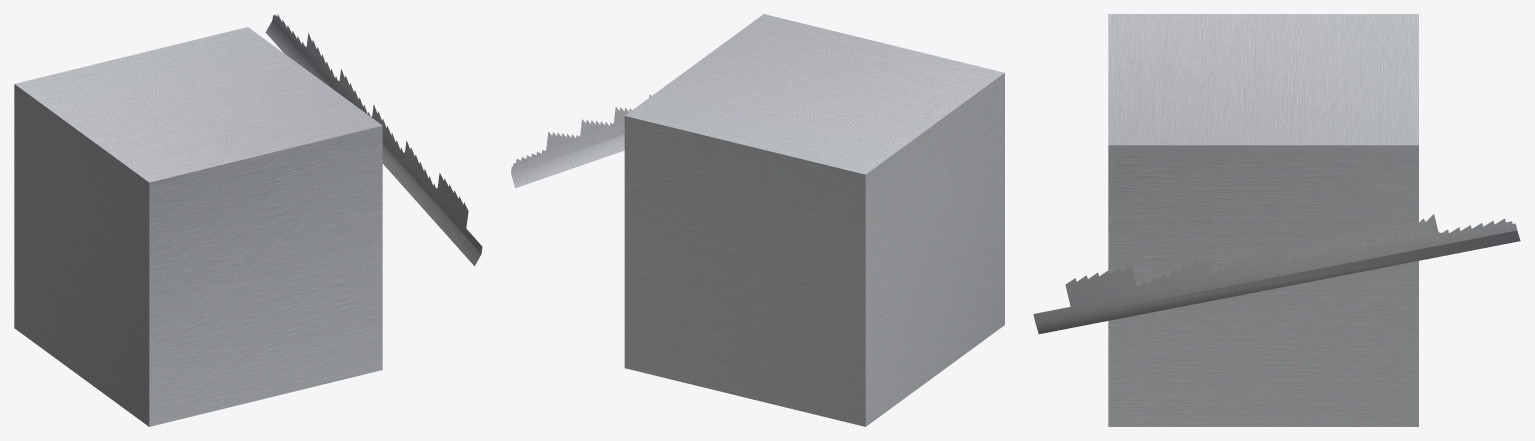
File: asset.gltf
3 renders of one model, left to right at view 1: azimuth 30°, elevation 25°; view 2: azimuth 150°, elevation 25°; view 3: azimuth 270°, elevation 25°, orthographic. The views are drawn at different scales.
Visible parts, largest first — view 1: Cube, Extrude; view 2: Cube, Extrude; view 3: Cube, Extrude.
Part boxes in pixels (x1=…): Cube: x1=14, y1=27, x2=382, y2=426; Extrude: x1=265, y1=14, x2=482, y2=266; Cube: x1=624, y1=14, x2=1004, y2=426; Extrude: x1=511, y1=94, x2=650, y2=187; Cube: x1=1108, y1=14, x2=1418, y2=426; Extrude: x1=1033, y1=214, x2=1520, y2=334.
Bounding box in the file's own units: 2.58 × 2 × 3.14.
1 material, 1 textured.
